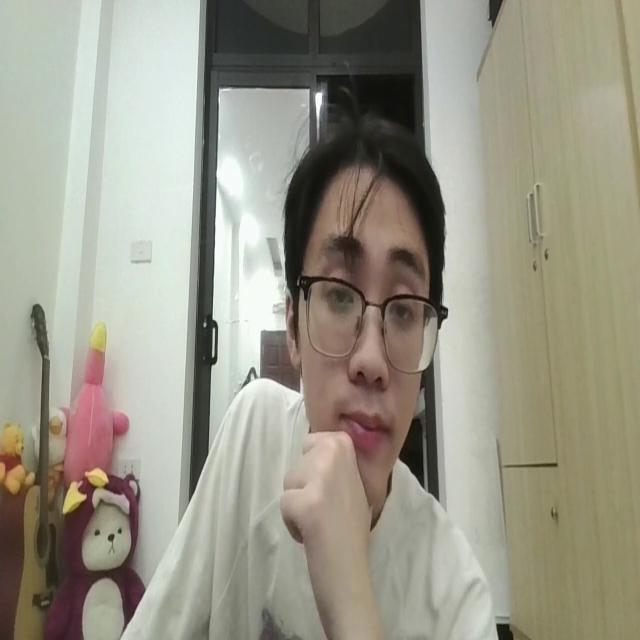student: (126, 121, 496, 640)
